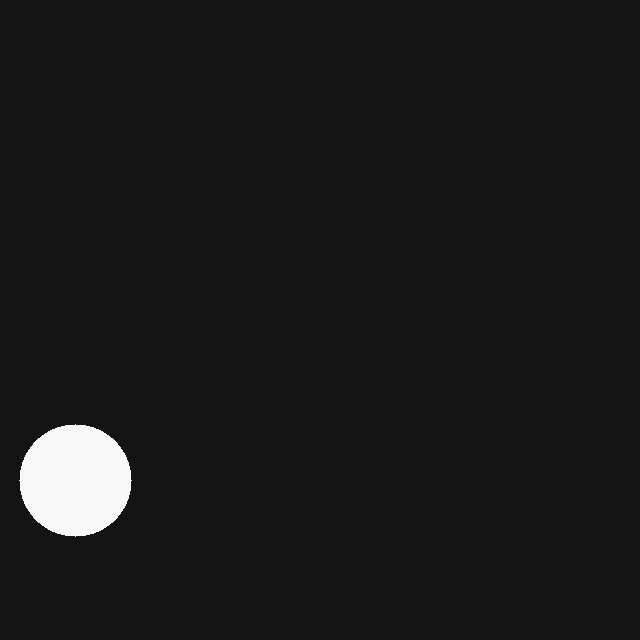circle: (19, 424, 131, 536)
